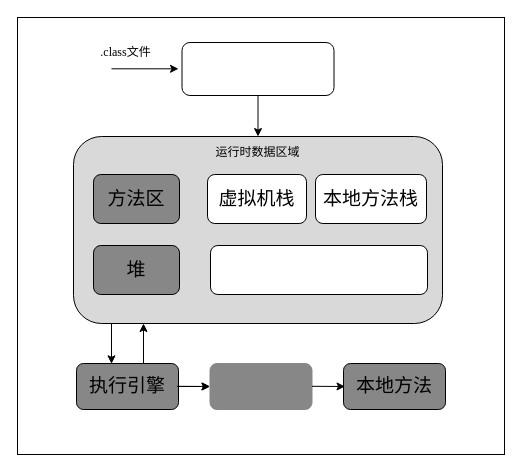
This 522x472 diagram has some shape labels left out. Each missing label, with the centre of its shape:
本地库接口: the point at 260,386
程序计数器: the point at 319,269
类加载子系统: the point at 257,69
